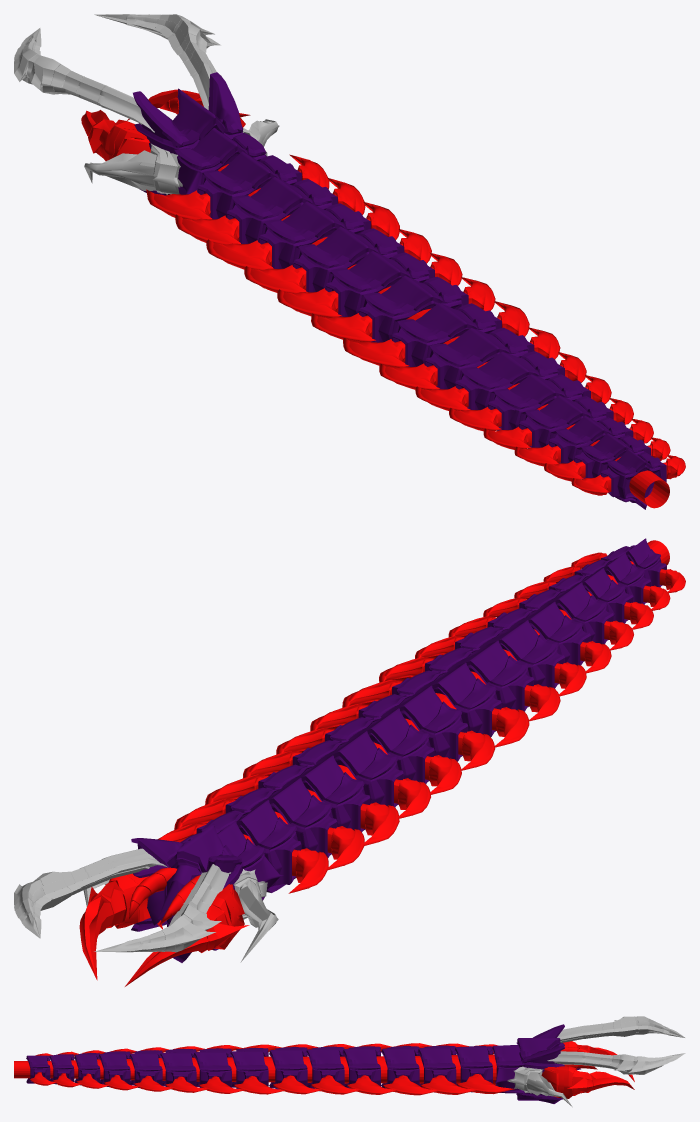
The model's file is uuuuuuuuuuuuuuuuuuuuuuuuuuu.fbx.
3 renders of one model, top to bottom at view 1: azimuth 30°, elevation 25°; view 2: azimuth 150°, elevation 25°; view 3: azimuth 270°, elevation 25°, orthographic. The views are drawn at different scales.
Visible parts, largest first — view 1: pCube75, pCone7, pCone8, T_09, T_12, T_13, T_10, T_11, pCone3, T_08, T_15, T_07 (+23 smaller); view 2: pCone8, pCone7, pCube75, polySurface3, T_11, T_13, T_12, T_09, T_08, T_10, T_07, polySurface1 (+30 smaller); view 3: pCube75, pCone8, pCone7, polySurface3, T_09, T_15, T_10, T_11, T_13, T_12, T_07, T_08 (+27 smaller).
Part boxes in pixels (x1=…): pCube75: x1=133, y1=72, x2=243, y2=195; pCone7: x1=14, y1=28, x2=154, y2=132; pCone8: x1=94, y1=14, x2=221, y2=109; T_09: x1=363, y1=275, x2=462, y2=341; T_12: x1=264, y1=201, x2=364, y2=268; T_13: x1=232, y1=177, x2=332, y2=243; T_10: x1=330, y1=251, x2=429, y2=316; T_11: x1=298, y1=226, x2=398, y2=291; pCone3: x1=84, y1=143, x2=182, y2=194; T_08: x1=397, y1=303, x2=496, y2=366; T_15: x1=174, y1=128, x2=266, y2=194; T_07: x1=429, y1=327, x2=528, y2=388; pCone8: x1=14, y1=848, x2=167, y2=938; pCone7: x1=94, y1=864, x2=230, y2=952; pCube75: x1=131, y1=824, x2=242, y2=962; polySurface3: x1=79, y1=873, x2=162, y2=980; T_11: x1=297, y1=731, x2=398, y2=803; T_13: x1=231, y1=778, x2=332, y2=850; T_12: x1=263, y1=755, x2=365, y2=828; T_09: x1=362, y1=685, x2=462, y2=757; T_08: x1=397, y1=662, x2=497, y2=732; T_10: x1=330, y1=708, x2=430, y2=779; T_07: x1=429, y1=640, x2=529, y2=708; polySurface1: x1=125, y1=884, x2=249, y2=986; pCube75: x1=516, y1=1024, x2=564, y2=1103; pCone8: x1=547, y1=1051, x2=685, y2=1074; pCone7: x1=557, y1=1016, x2=684, y2=1042; polySurface3: x1=541, y1=1066, x2=634, y2=1098; T_09: x1=269, y1=1047, x2=307, y2=1089; T_15: x1=492, y1=1045, x2=524, y2=1093; T_10: x1=306, y1=1046, x2=344, y2=1091; T_11: x1=342, y1=1046, x2=380, y2=1088; T_13: x1=417, y1=1045, x2=456, y2=1092; T_12: x1=381, y1=1046, x2=419, y2=1088; T_07: x1=193, y1=1048, x2=231, y2=1087; T_08: x1=230, y1=1048, x2=268, y2=1088.
Bounding box in the file's own units: 9.1 × 5.33 × 47.29.
